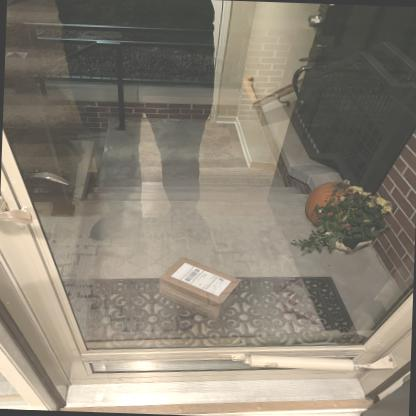box: (159, 256, 241, 323)
